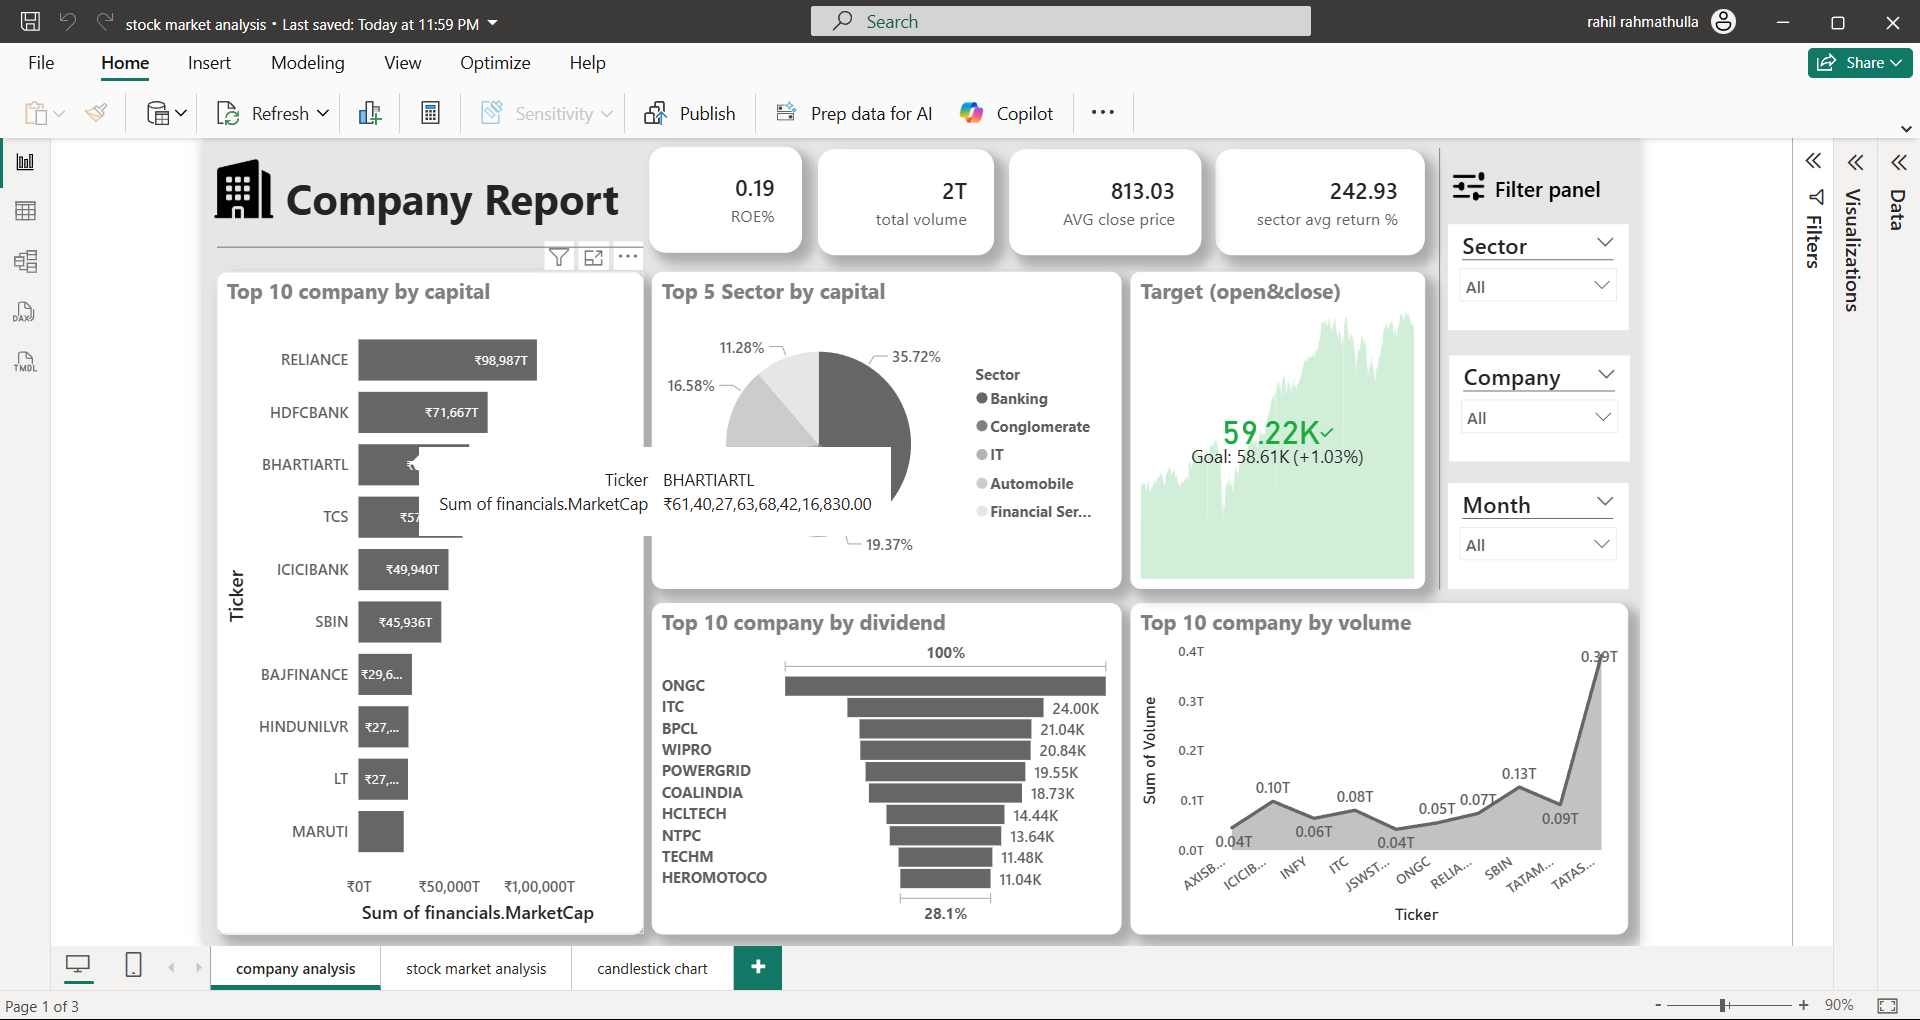

Layout of this report page (visuals, bound fields, positions):
{"tool":"powerbi","page":{"name":"company analysis","canvas":[1280,720],"ordinal":0},"visuals":[{"type":"slicer","fields":{"Values":["sector.Sector"]},"box":[1108.8,76.8,160.5,94.7],"z":0},{"type":"cardVisual","fields":{"Data":["Measure.ROE%"]},"box":[397.9,8.2,135.8,94.7],"z":1000},{"type":"cardVisual","fields":{"Data":["Measure.total volume"]},"box":[547.5,9.6,156.4,94.7],"z":2000},{"type":"cardVisual","fields":{"Data":["Measure.sector avg return %"]},"box":[901.5,9.6,186.6,94.7],"z":3000},{"type":"cardVisual","fields":{"Data":["Measure.AVG close price"]},"box":[717.7,9.6,171.5,94.7],"z":4000},{"type":"barChart","title":"Top 10 company by capital","fields":{"Y":["Sum(stock_price.financials.MarketCap)"],"Category":["stock_price.Ticker"]},"box":[12.3,119.4,380.1,590.1],"z":5000},{"type":"textbox","box":[68.6,23.3,323.8,81],"z":6000},{"type":"image","box":[0,13.7,72.7,63.1],"z":7000},{"type":"pieChart","title":"Top 5 Sector by capital","fields":{"Category":["sector.Sector"],"Y":["Sum(stock_price.financials.MarketCap)"]},"box":[399.3,119.4,418.5,282.7],"z":8000},{"type":"funnel","title":"Top 10 company by dividend","fields":{"Category":["stock_price.Ticker"],"Y":["Sum(stock_price.financials (historical).Dividend_Yield)"]},"box":[399.3,414.4,418.5,295],"z":9000},{"type":"lineChart","title":"Top 10 company by volume","fields":{"Y":["Sum(stock_price.Volume)","select"],"Category":["stock_price.Ticker"]},"box":[826.1,414.4,443.2,295],"z":10000},{"type":"slicer","fields":{"Values":["sector.CompanyName"]},"box":[1110.1,193.5,160.5,94.7],"z":11000},{"type":"kpi","title":"Target (open&close)","fields":{"Indicator":["Sum(stock_price.Close)"],"Goal":["Sum(stock_price.Open)"],"TrendLine":["stock_price.Date"]},"box":[826.1,119.4,262.1,282.7],"z":12000},{"type":"slicer","fields":{"Values":["stock_price.month"]},"box":[1108.8,307.4,160.5,94.7],"z":13000},{"type":"image","box":[1108.8,27.4,37,30.2],"z":14000},{"type":"textbox","box":[1145.8,27.4,123.5,39.8],"z":15000},{"type":"shape","box":[1076.1,8.4,49.5,393.3],"z":16000},{"type":"shape","box":[12.1,63.9,380,67.6],"z":17000}]}

Visuals, with their boxes on the page's 1280x720 design canvas (x1, y1, x2, y2). These are canvas units, not pixel positions in the 1920x1020 screenshot, which may show the page scaled, cropped or inside an application window:
slicer - sector.Sector: {"x1": 1109, "y1": 77, "x2": 1269, "y2": 172}
cardVisual - Measure.ROE%: {"x1": 398, "y1": 8, "x2": 534, "y2": 103}
cardVisual - Measure.total volume: {"x1": 548, "y1": 10, "x2": 704, "y2": 104}
cardVisual - Measure.sector avg return %: {"x1": 902, "y1": 10, "x2": 1088, "y2": 104}
cardVisual - Measure.AVG close price: {"x1": 718, "y1": 10, "x2": 889, "y2": 104}
"Top 10 company by capital" barChart: {"x1": 12, "y1": 119, "x2": 392, "y2": 710}
textbox: {"x1": 69, "y1": 23, "x2": 392, "y2": 104}
image: {"x1": 0, "y1": 14, "x2": 73, "y2": 77}
"Top 5 Sector by capital" pieChart: {"x1": 399, "y1": 119, "x2": 818, "y2": 402}
"Top 10 company by dividend" funnel: {"x1": 399, "y1": 414, "x2": 818, "y2": 709}
"Top 10 company by volume" lineChart: {"x1": 826, "y1": 414, "x2": 1269, "y2": 709}
slicer - sector.CompanyName: {"x1": 1110, "y1": 194, "x2": 1271, "y2": 288}
"Target (open&close)" kpi: {"x1": 826, "y1": 119, "x2": 1088, "y2": 402}
slicer - stock_price.month: {"x1": 1109, "y1": 307, "x2": 1269, "y2": 402}
image: {"x1": 1109, "y1": 27, "x2": 1146, "y2": 58}
textbox: {"x1": 1146, "y1": 27, "x2": 1269, "y2": 67}
shape: {"x1": 1076, "y1": 8, "x2": 1126, "y2": 402}
shape: {"x1": 12, "y1": 64, "x2": 392, "y2": 132}
